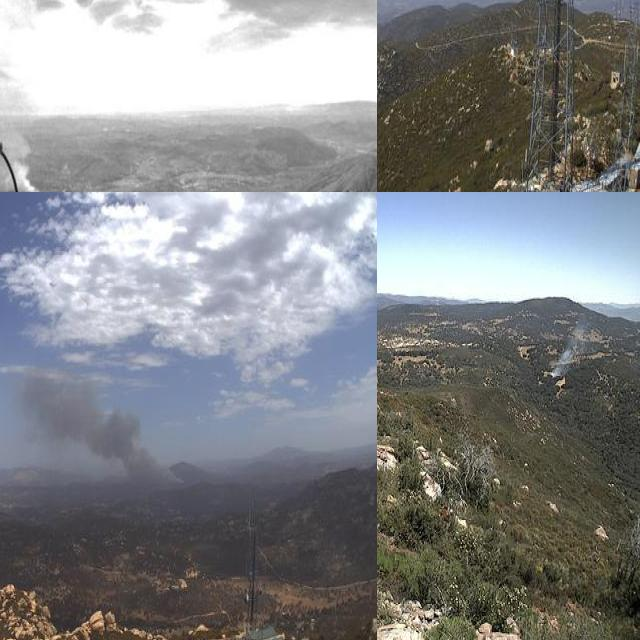smoke: (0, 355, 188, 503), (0, 81, 41, 192), (546, 311, 598, 381)
